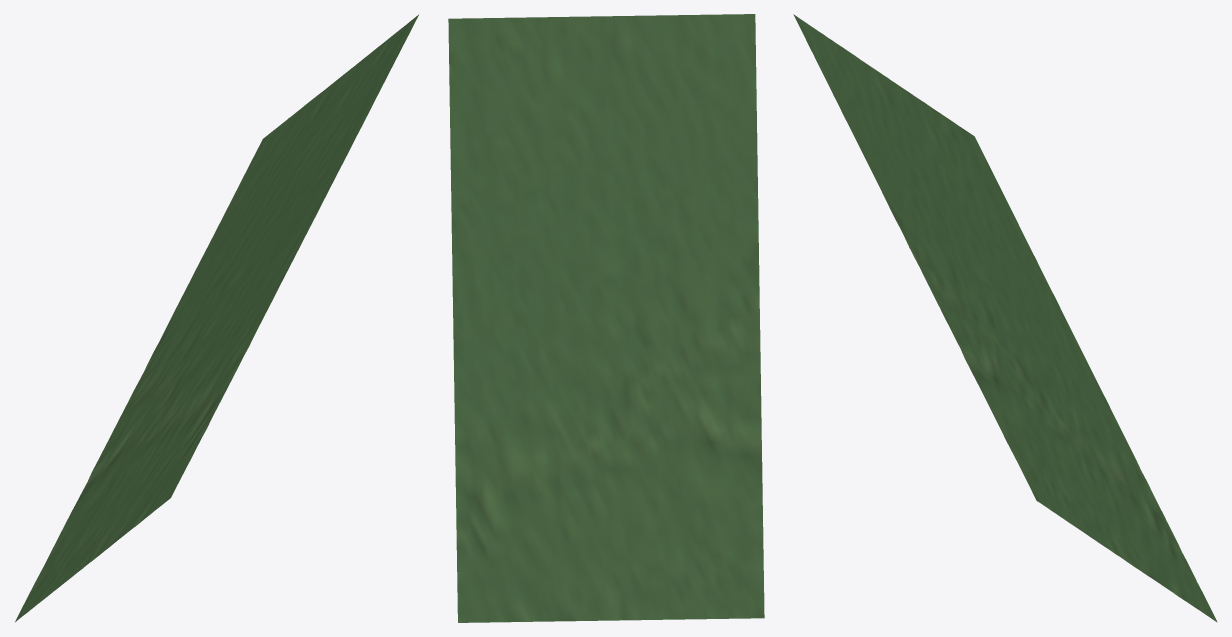
The picture shows the model from 3 angles, left to right: view 1: azimuth 30°, elevation 25°; view 2: azimuth 150°, elevation 25°; view 3: azimuth 270°, elevation 25°; orthographic projection. The views are drawn at different scales.
Size of the model in its own units: 9784 by 13467 by 9405.
